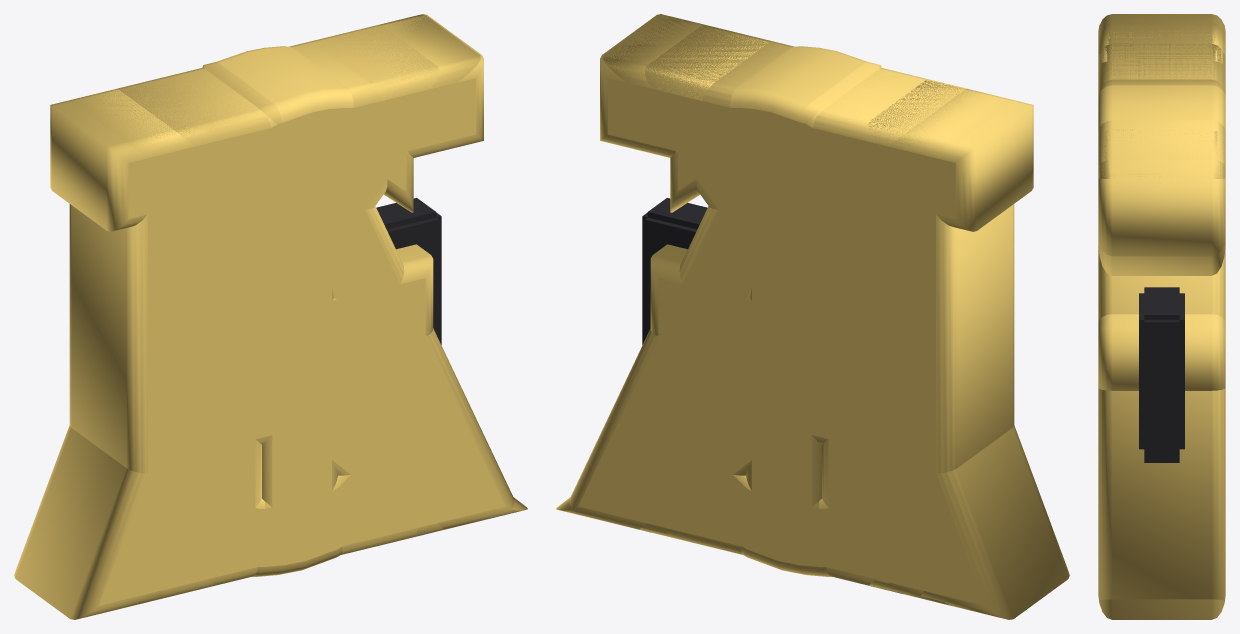
Rendered from pickups.glb.
3 renders of one model, left to right at view 1: azimuth 30°, elevation 25°; view 2: azimuth 150°, elevation 25°; view 3: azimuth 270°, elevation 25°, orthographic. The views are drawn at different scales.
Parts seen in each view (by area): view 1: Letter_K, Letter_A, Letter_E, Letter_T, Letter_S, SecretTape; view 2: Letter_K, Letter_A, Letter_T, Letter_E, Letter_S, SecretTape; view 3: Letter_A, Letter_T, Letter_E, SecretTape, Letter_S, Letter_K.
Part boxes in pixels (left/top/right/bottom): Letter_K: left=69, top=14, right=527, bottom=605; Letter_A: left=14, top=62, right=519, bottom=619; Letter_E: left=118, top=25, right=443, bottom=594; Letter_T: left=50, top=14, right=483, bottom=506; Letter_S: left=187, top=46, right=413, bottom=576; SecretTape: left=376, top=198, right=441, bottom=344; Letter_K: left=556, top=14, right=1014, bottom=605; Letter_A: left=564, top=62, right=1069, bottom=619; Letter_T: left=600, top=14, right=1033, bottom=553; Letter_E: left=639, top=25, right=966, bottom=594; Letter_S: left=663, top=46, right=895, bottom=576; SecretTape: left=642, top=198, right=707, bottom=344; Letter_A: left=1098, top=79, right=1225, bottom=600; Letter_T: left=1098, top=14, right=1225, bottom=256; Letter_E: left=1098, top=43, right=1225, bottom=390; SecretTape: left=1139, top=287, right=1184, bottom=462; Letter_S: left=1098, top=85, right=1225, bottom=275; Letter_K: left=1098, top=22, right=1225, bottom=619.
Size of the model in its own units: 0.6741 by 0.6701 by 0.18.
